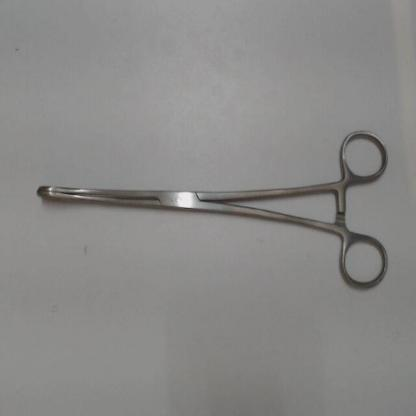Sponge Forceps: (27, 121, 396, 298)
